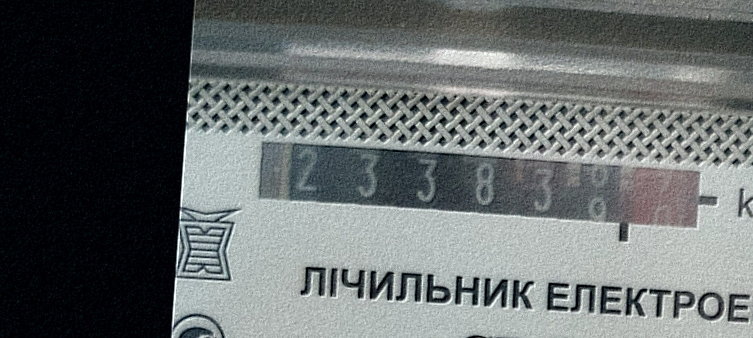0: (652, 202, 675, 230)
2: (295, 147, 322, 195)
3: (410, 155, 442, 206), (352, 150, 384, 200), (530, 166, 557, 213)
8: (470, 161, 500, 208), (588, 162, 612, 191)
9: (653, 166, 677, 197), (586, 194, 609, 225)
screen: (245, 130, 723, 252)
